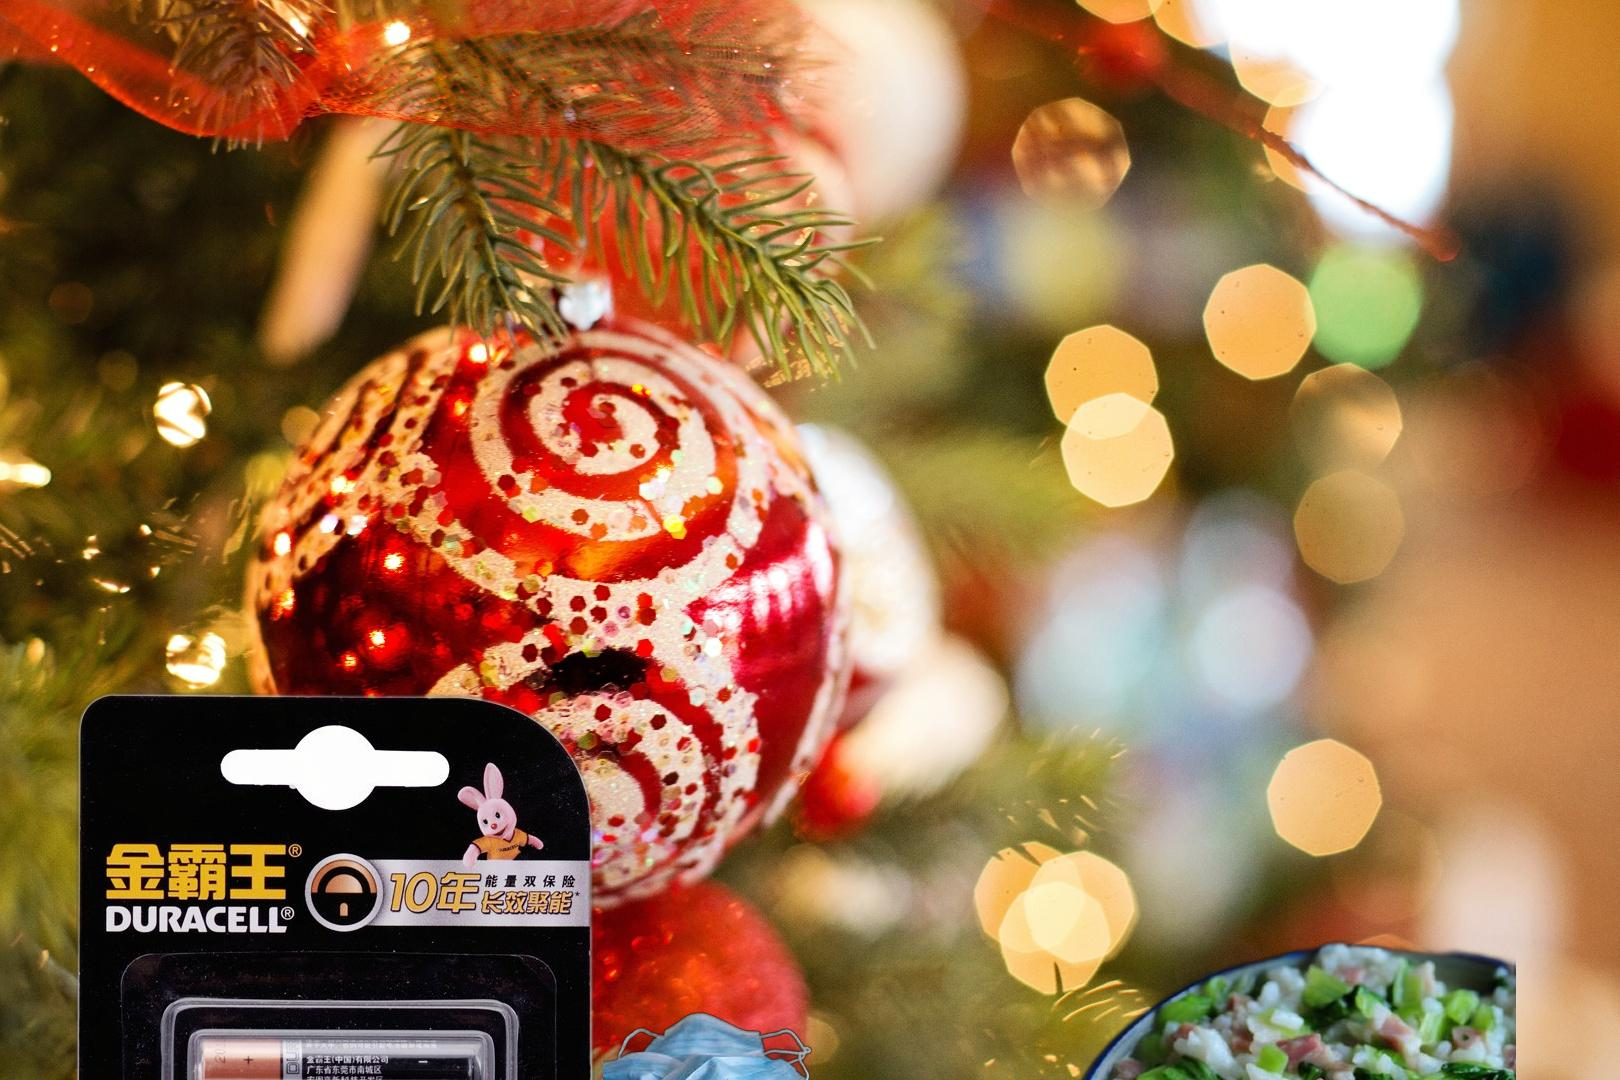battery: (67, 685, 603, 1080)
biological: (1076, 934, 1516, 1080)
trash: (603, 1012, 817, 1080)
